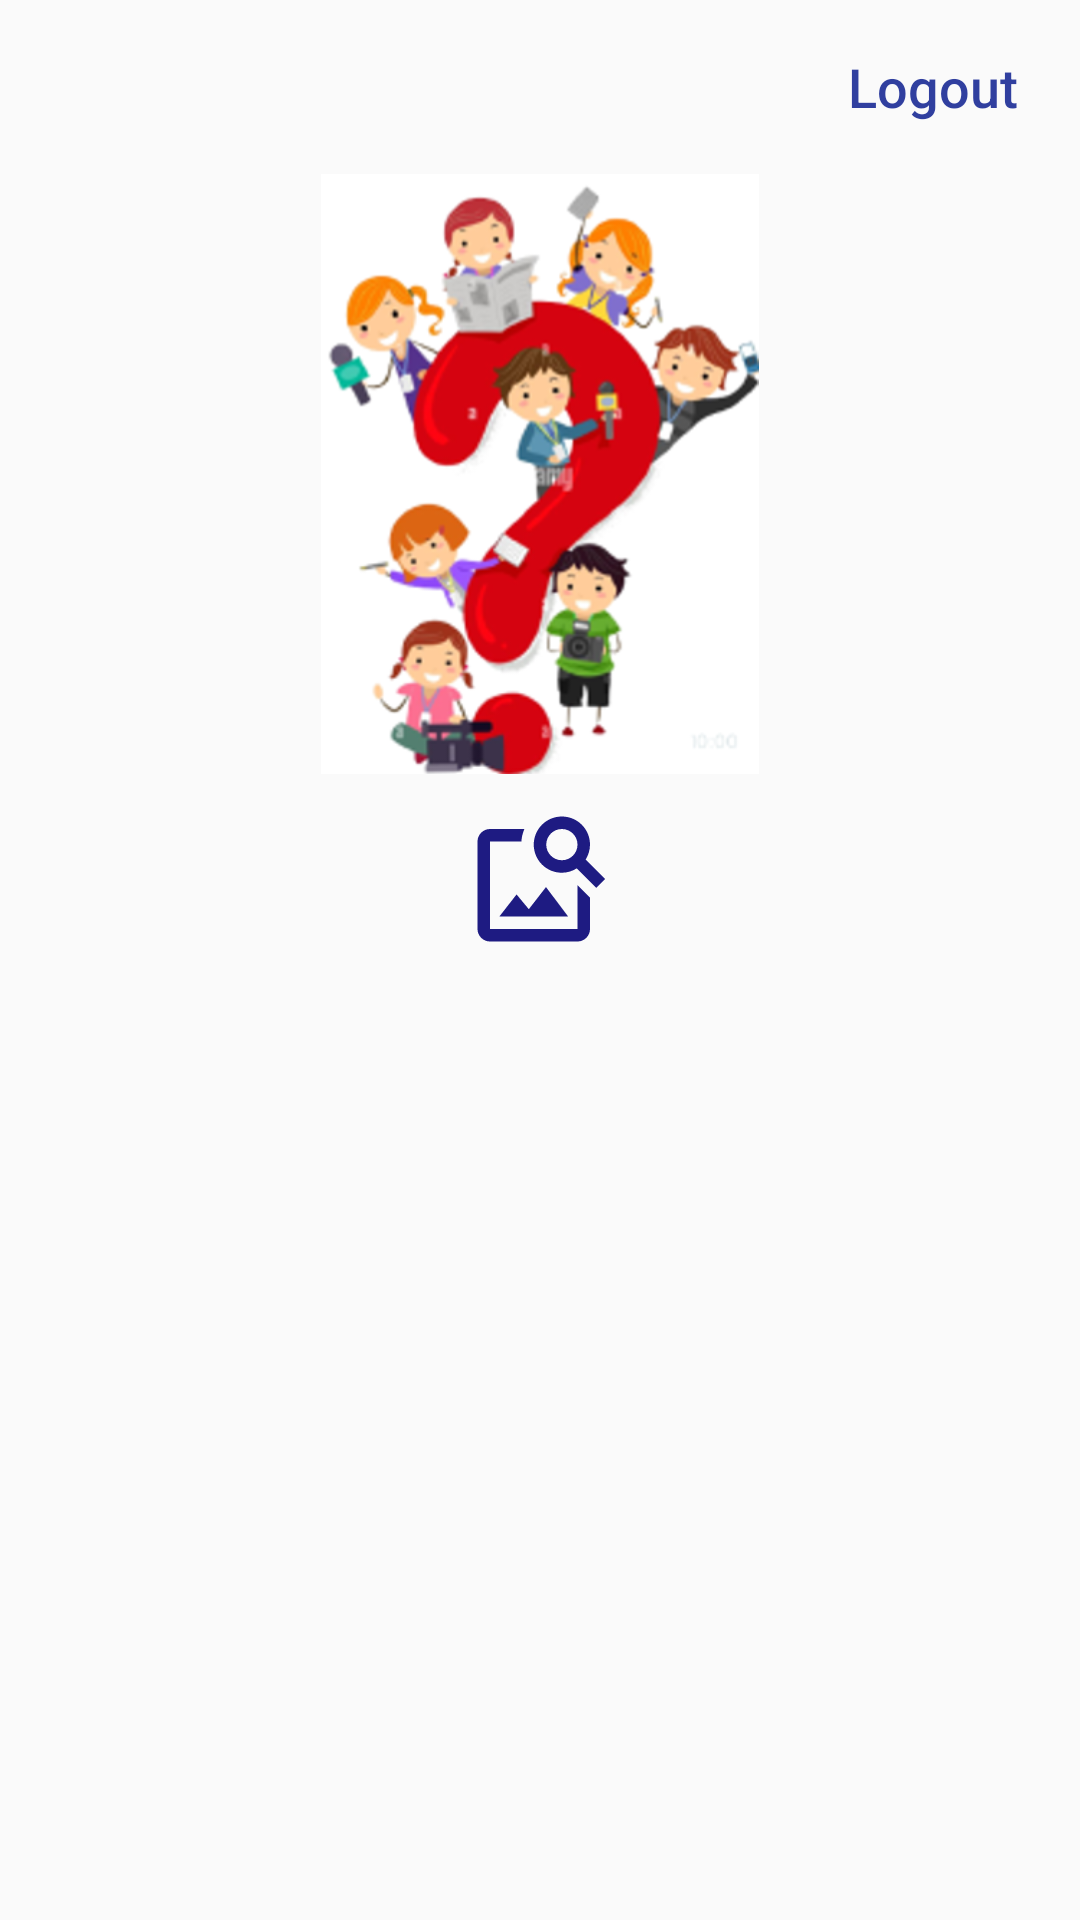

Icons on this 1080px×1920px Android screen, each with its box as [x1,y1,x2,y2]:
search: [477,816,605,942]
